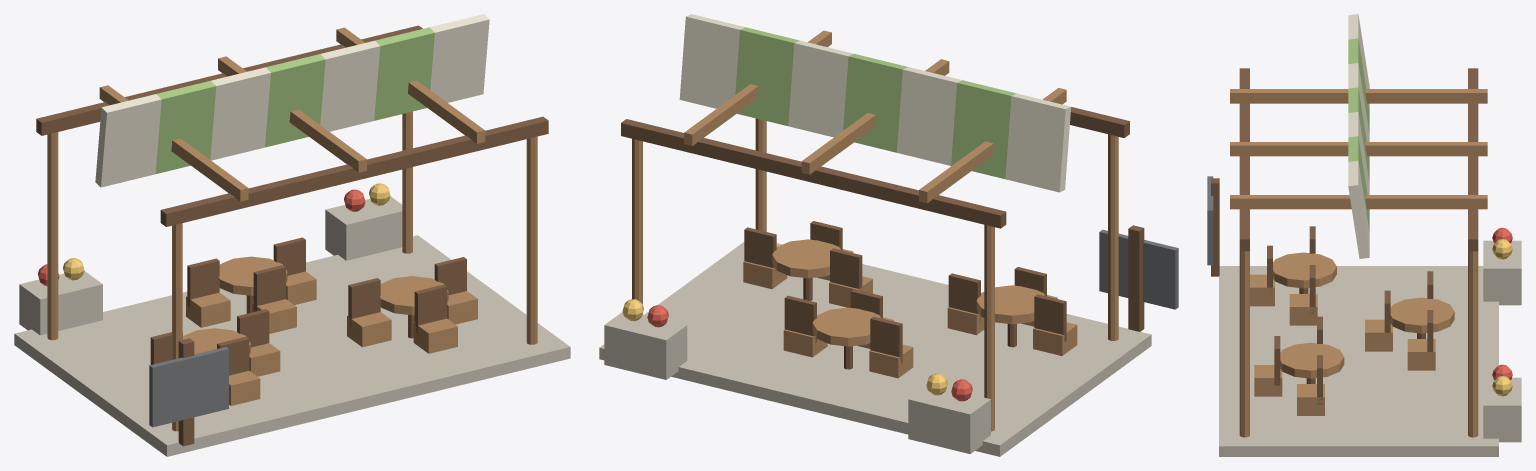
Rendered from cafe-terrace-Cx7C9hY9.glb.
The picture shows the model from 3 angles, left to right: view 1: azimuth 30°, elevation 25°; view 2: azimuth 150°, elevation 25°; view 3: azimuth 270°, elevation 25°; orthographic projection. The views are drawn at different scales.
Visible parts, largest first — view 1: Terrace_Deck, Terrace_Pergola_Beam_-1.55, Terrace_Chalkboard_Face, Terrace_Canvas_stripe_0, Terrace_Canvas_stripe_2, Terrace_Canvas_stripe_4, Terrace_Canvas_stripe_6, Terrace_Canvas_stripe_5, Terrace_Canvas_stripe_3, Terrace_Canvas_stripe_1, Terrace_Planter_1, Terrace_Planter_0 (+29 smaller); view 2: Terrace_Deck, Terrace_Pergola_Beam_1.55, Terrace_Canvas_stripe_0, Terrace_Canvas_stripe_2, Terrace_Canvas_stripe_4, Terrace_Canvas_stripe_6, Terrace_Canvas_stripe_5, Terrace_Canvas_stripe_3, Terrace_Canvas_stripe_1, Terrace_Planter_1, Terrace_Planter_0, Terrace_Chalkboard_Face (+27 smaller); view 3: Terrace_Deck, Terrace_Awning_Frame_1.7, Terrace_Awning_Frame_-1.7, Terrace_Awning_Frame_0, Terrace_Planter_1, Terrace_Planter_0, Terrace_Pergola_Post_2.55_-1.55, Terrace_Pergola_Post_2.55_1.55, Terrace_Table_2, Terrace_Table_0, Terrace_Table_1, Terrace_Pergola_Beam_-1.55 (+19 smaller).
Part boxes in pixels (left/top/right/bottom): Terrace_Deck: left=14, top=235, right=570, bottom=456; Terrace_Pergola_Beam_-1.55: left=160, top=116, right=548, bottom=226; Terrace_Chalkboard_Face: left=149, top=347, right=228, bottom=427; Terrace_Canvas_stripe_0: left=95, top=94, right=161, bottom=187; Terrace_Canvas_stripe_2: left=210, top=67, right=270, bottom=160; Terrace_Canvas_stripe_4: left=320, top=40, right=380, bottom=131; Terrace_Canvas_stripe_6: left=430, top=14, right=489, bottom=102; Terrace_Canvas_stripe_5: left=374, top=27, right=434, bottom=120; Terrace_Canvas_stripe_3: left=265, top=54, right=325, bottom=147; Terrace_Canvas_stripe_1: left=155, top=80, right=216, bottom=173; Terrace_Planter_1: left=325, top=196, right=402, bottom=260; Terrace_Planter_0: left=19, top=271, right=102, bottom=335; Terrace_Deck: left=599, top=242, right=1151, bottom=456; Terrace_Pergola_Beam_1.55: left=621, top=119, right=1006, bottom=228; Terrace_Canvas_stripe_0: left=1005, top=93, right=1070, bottom=192; Terrace_Canvas_stripe_2: left=896, top=67, right=961, bottom=165; Terrace_Canvas_stripe_4: left=788, top=40, right=853, bottom=137; Terrace_Canvas_stripe_6: left=679, top=14, right=744, bottom=108; Terrace_Canvas_stripe_5: left=735, top=27, right=799, bottom=125; Terrace_Canvas_stripe_3: left=843, top=53, right=907, bottom=152; Terrace_Canvas_stripe_1: left=951, top=80, right=1016, bottom=178; Terrace_Planter_1: left=604, top=312, right=687, bottom=379; Terrace_Planter_0: left=908, top=386, right=990, bottom=453; Terrace_Chalkboard_Face: left=1099, top=229, right=1178, bottom=309; Terrace_Deck: left=1219, top=266, right=1498, bottom=456; Terrace_Awning_Frame_1.7: left=1230, top=195, right=1487, bottom=209; Terrace_Awning_Frame_-1.7: left=1230, top=89, right=1487, bottom=103; Terrace_Awning_Frame_0: left=1230, top=142, right=1487, bottom=156; Terrace_Planter_1: left=1483, top=377, right=1521, bottom=442; Terrace_Planter_0: left=1483, top=240, right=1521, bottom=305; Terrace_Pergola_Post_2.55_-1.55: left=1239, top=251, right=1249, bottom=437; Terrace_Pergola_Post_2.55_1.55: left=1468, top=251, right=1478, bottom=437; Terrace_Table_2: left=1390, top=297, right=1454, bottom=333; Terrace_Table_0: left=1273, top=252, right=1336, bottom=288; Terrace_Table_1: left=1280, top=342, right=1344, bottom=378; Terrace_Pergola_Beam_-1.55: left=1239, top=68, right=1249, bottom=251.
Size of the model in its own units: 6.1 by 4 by 4.27.
